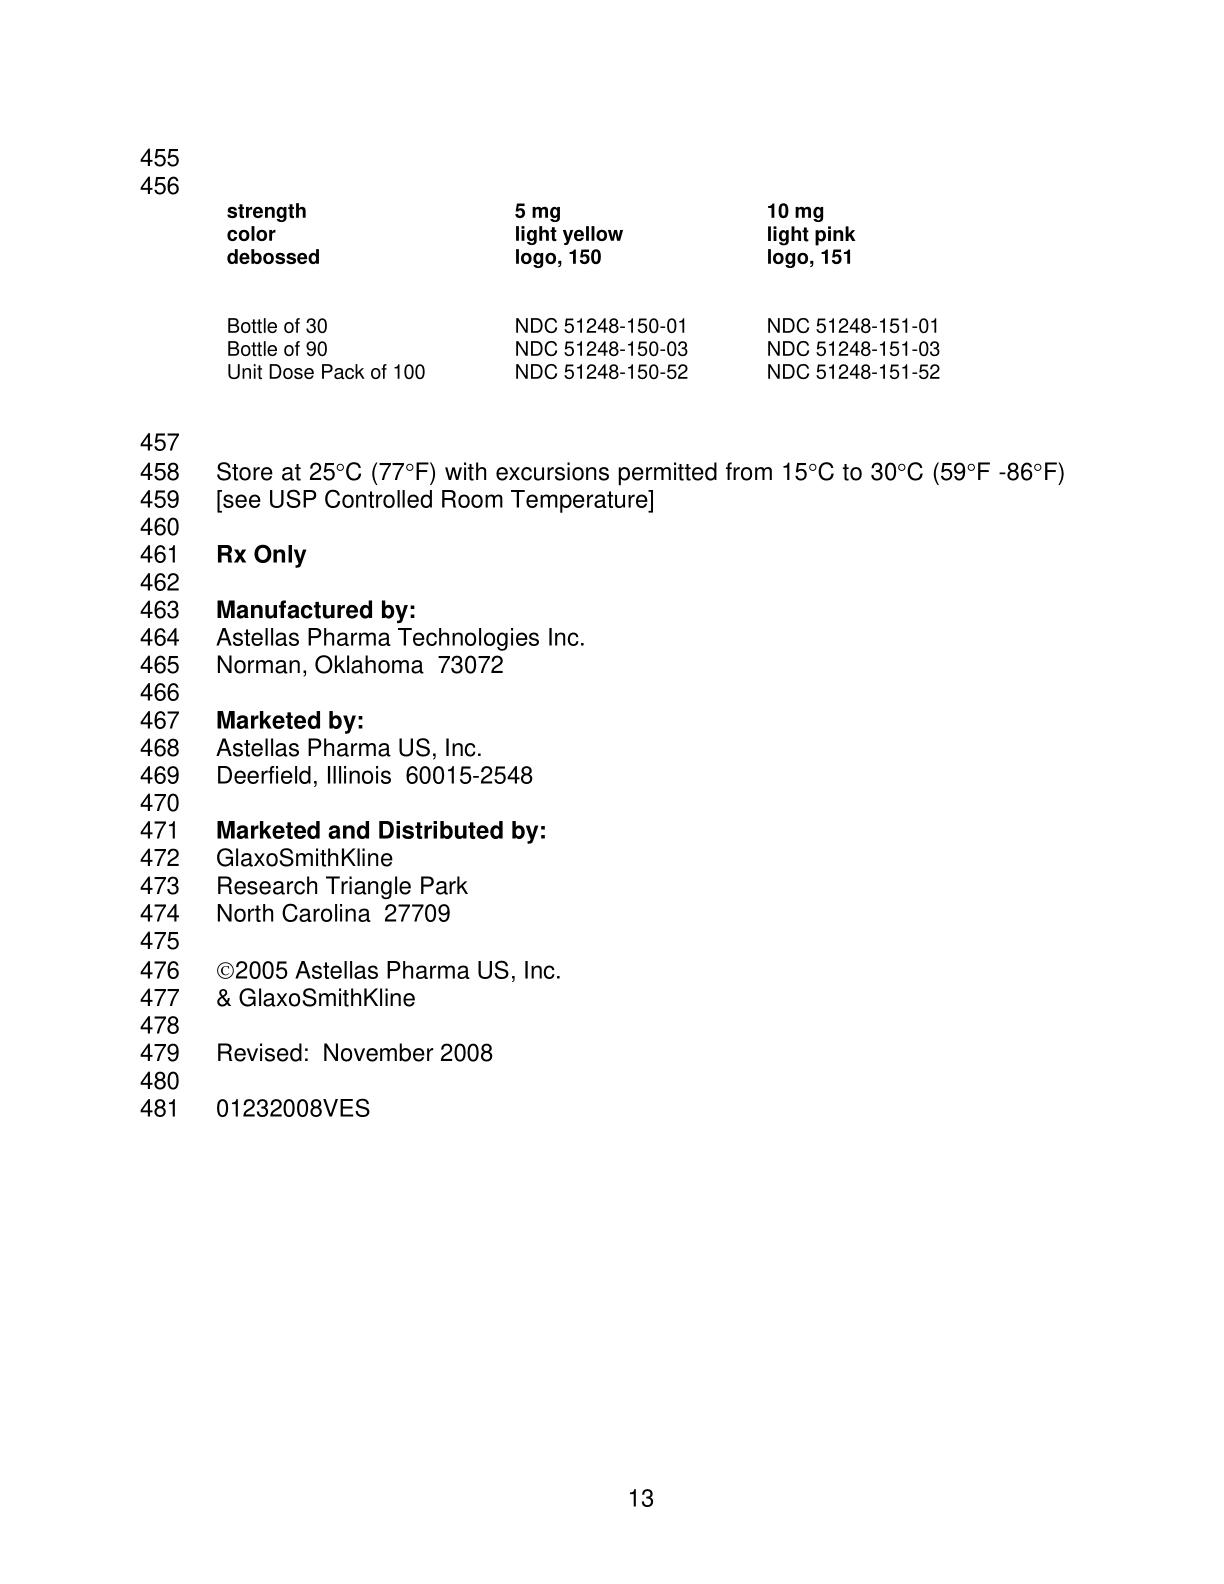nolines: (222, 201, 944, 384)
